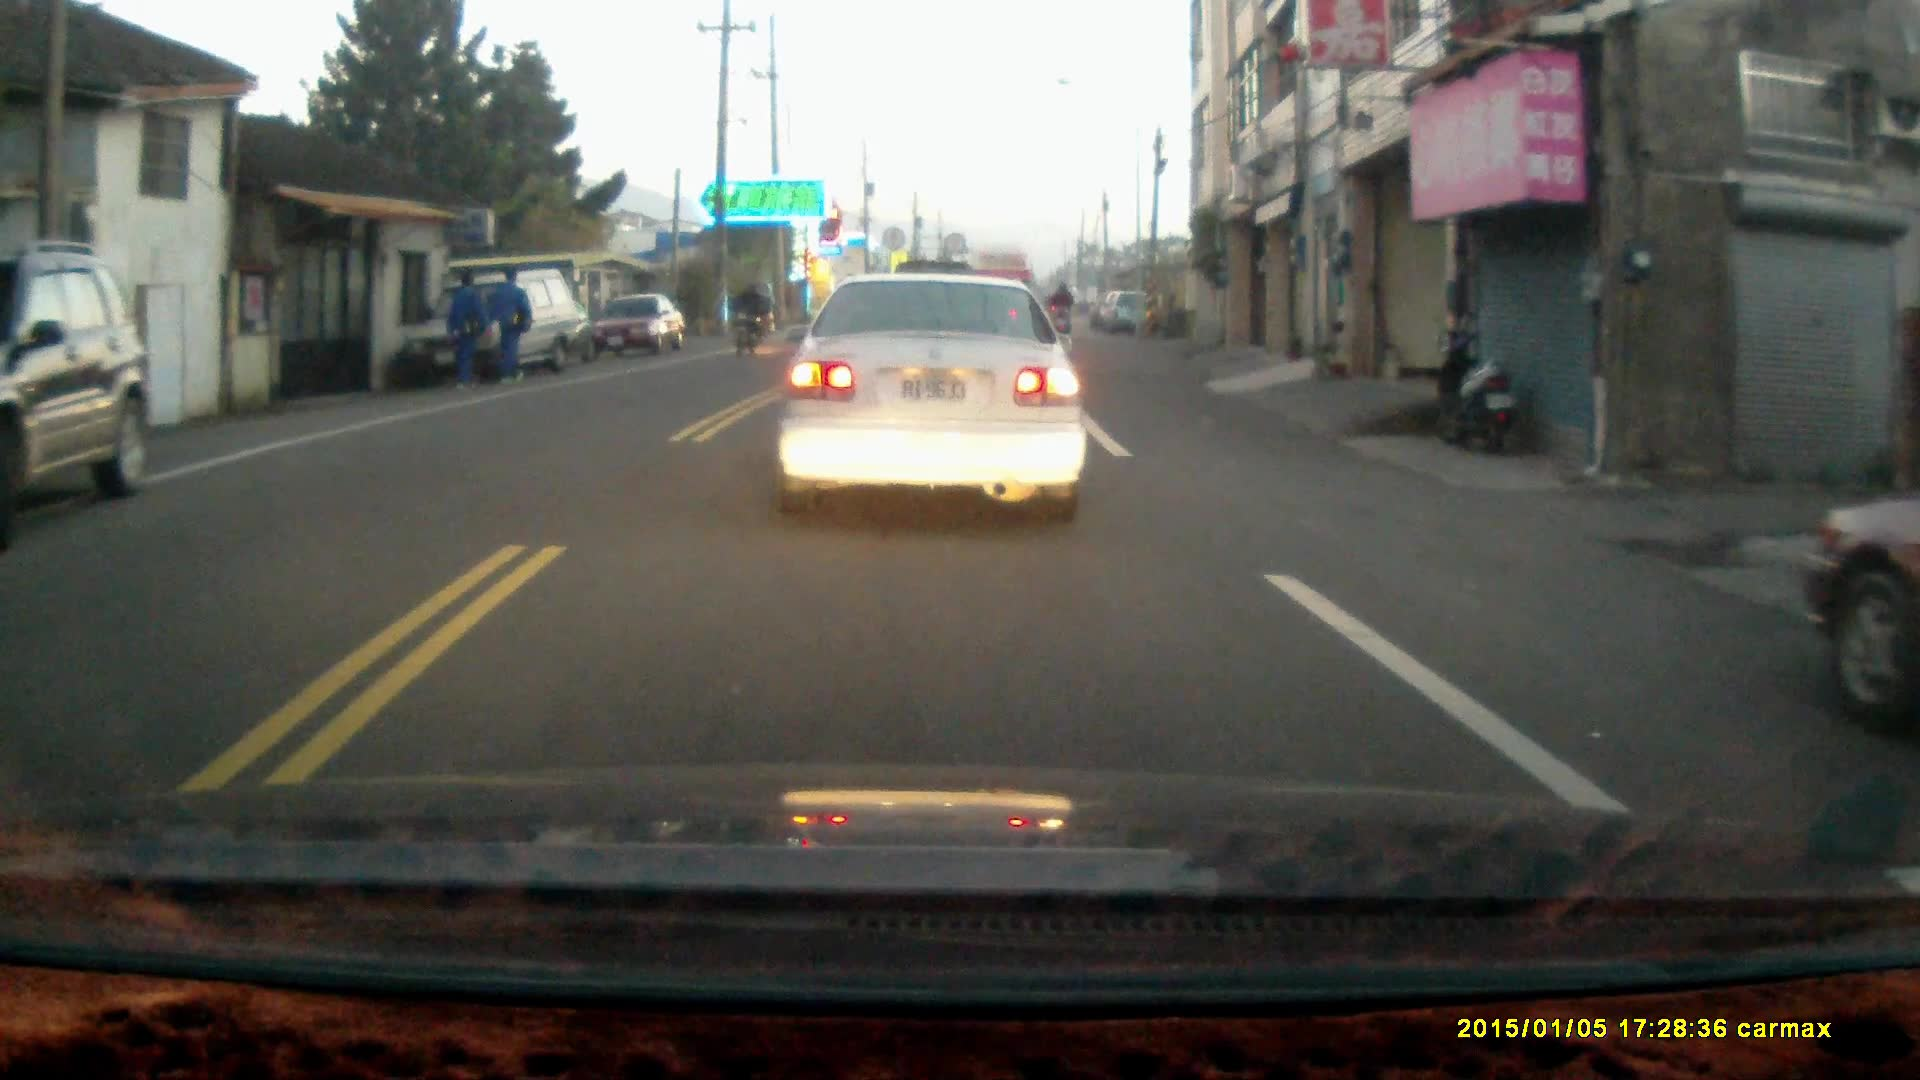pedestrian: (443, 273, 485, 394), (490, 266, 529, 390)
rider: (724, 282, 764, 355)
vehicle: (772, 273, 1091, 526), (1, 256, 152, 537), (1793, 492, 1920, 680), (423, 270, 595, 385), (584, 300, 689, 363)
